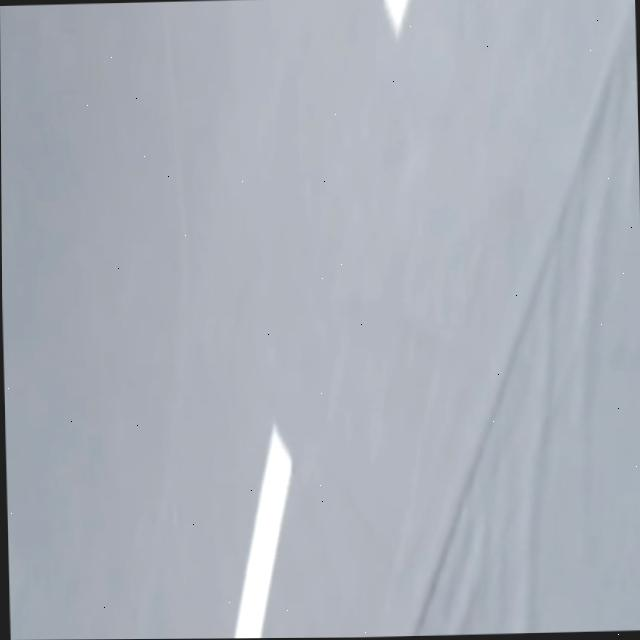center: (234, 425, 291, 638), (384, 0, 410, 36)
